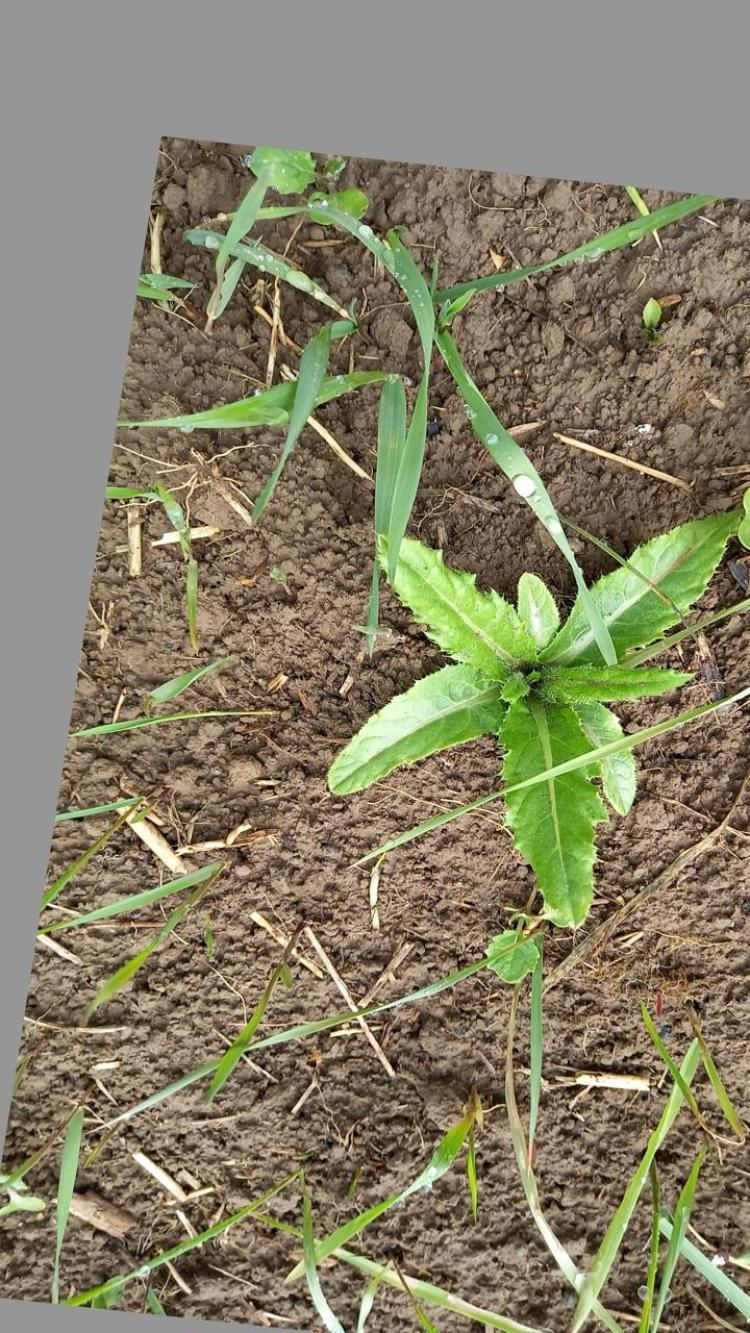bodyak: (325, 510, 744, 929)
